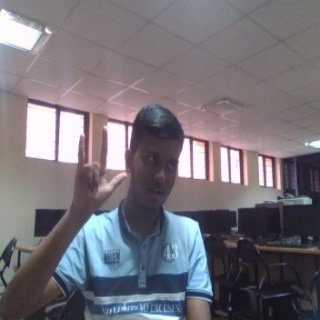Face: (124, 104, 185, 211)
I Love You: (71, 124, 128, 217)
